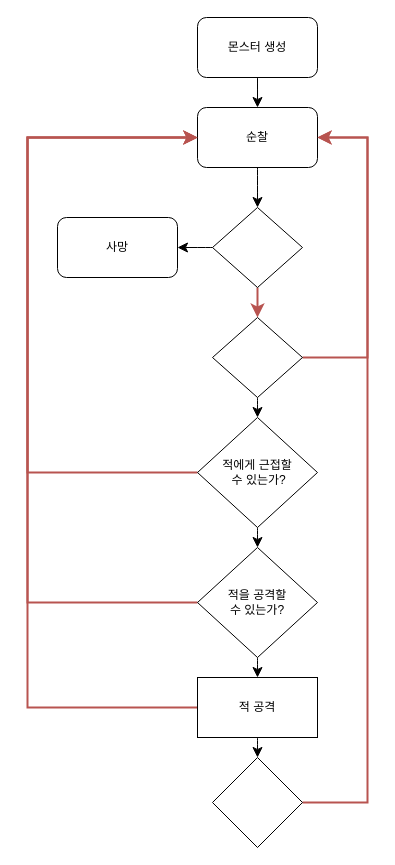
This 395x865 diagram has some shape labels left out. The shapes that lost their labels are listed below. From the top down, each one's centre as x and y in pixels, then its label:
At [257,247]: "내 HP가 0인가?".
At [257,357]: "적을 식별 했는가?".
At [257,802]: "적 HP가0인가?".
